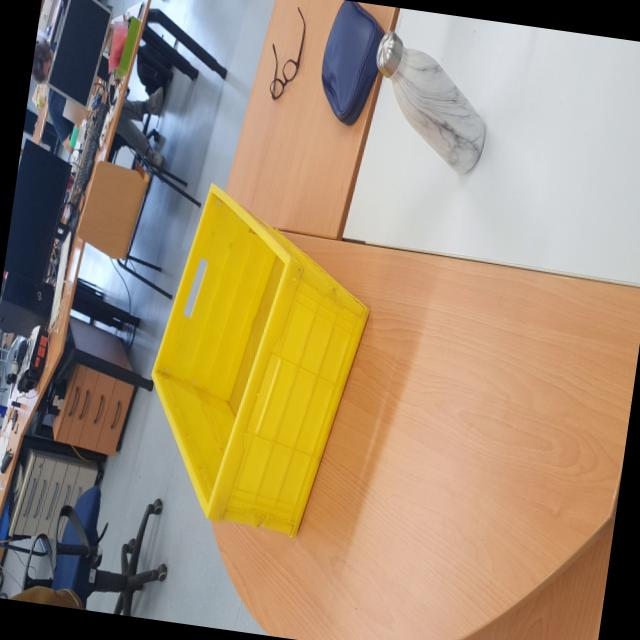box: (114, 166, 389, 571)
